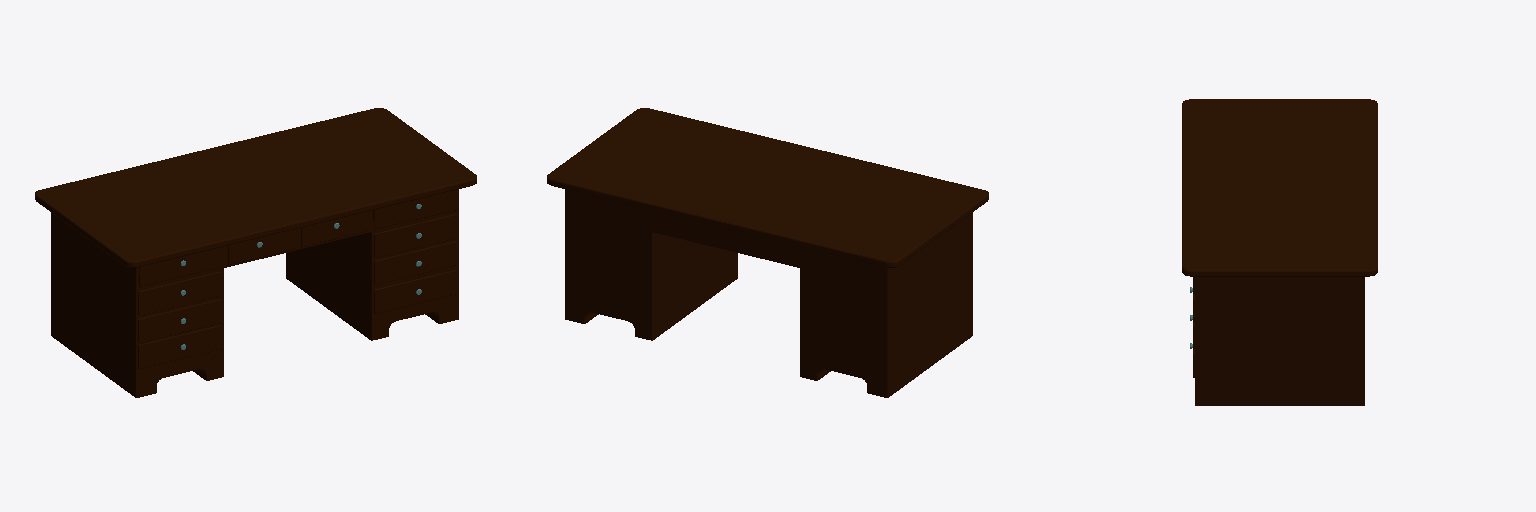
File: ComputerTable.obj
3 renders of one model, left to right at view 1: azimuth 30°, elevation 25°; view 2: azimuth 150°, elevation 25°; view 3: azimuth 270°, elevation 25°, orthographic.
Parts seen in each view (by area): view 1: pCube2, polySurface7 polySurface5 polySurface3 polySurface1 pCube1, polySurface4, polySurface6; view 2: polySurface7 polySurface5 polySurface3 polySurface1 pCube1, pCube2; view 3: pCube2, polySurface7 polySurface5 polySurface3 polySurface1 pCube1.
Boxes of the visible parts, x1=… form: pCube2: x1=35, y1=108, x2=476, y2=267; polySurface7 polySurface5 polySurface3 polySurface1 pCube1: x1=51, y1=189, x2=458, y2=397; polySurface4: x1=138, y1=214, x2=457, y2=368; polySurface6: x1=139, y1=190, x2=457, y2=286; polySurface7 polySurface5 polySurface3 polySurface1 pCube1: x1=565, y1=189, x2=972, y2=397; pCube2: x1=547, y1=108, x2=988, y2=267; pCube2: x1=1182, y1=99, x2=1377, y2=276; polySurface7 polySurface5 polySurface3 polySurface1 pCube1: x1=1195, y1=277, x2=1364, y2=405.
Size of the model in its own units: 251 by 97.27 by 121.